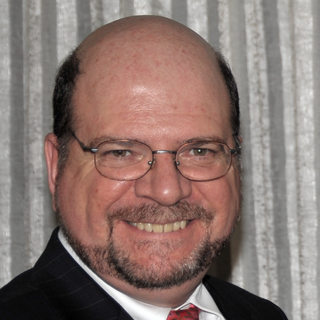eye: (94, 142, 140, 164), (181, 140, 223, 164)
